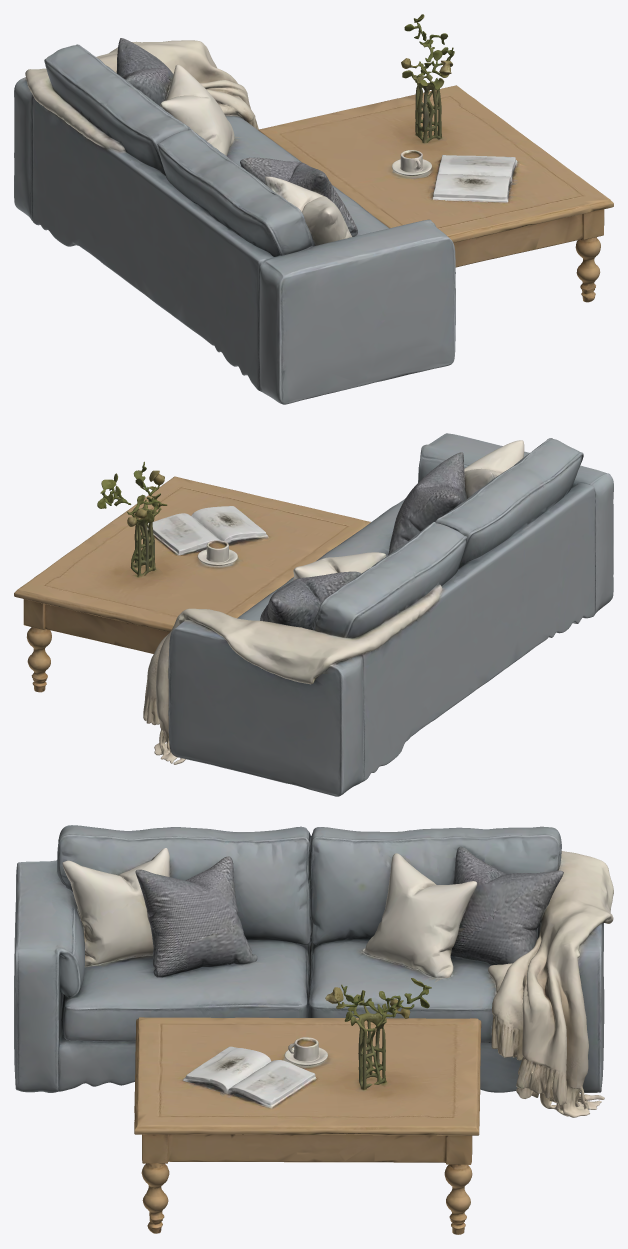
File: homedepot-com-p-jayden-creation-emma-52-in-natural-lift-top--dc1619.glb
3 renders of one model, top to bottom at view 1: azimuth 30°, elevation 25°; view 2: azimuth 150°, elevation 25°; view 3: azimuth 270°, elevation 25°, orthographic. The views are drawn at different scales.
Visible parts, largest first — view 1: tripo_node_809632c6-0faf-45bd-95af-8e26dea4952b; view 2: tripo_node_809632c6-0faf-45bd-95af-8e26dea4952b; view 3: tripo_node_809632c6-0faf-45bd-95af-8e26dea4952b.
Part boxes in pixels (x1=…): tripo_node_809632c6-0faf-45bd-95af-8e26dea4952b: x1=14, y1=14, x2=613, y2=404; tripo_node_809632c6-0faf-45bd-95af-8e26dea4952b: x1=14, y1=433, x2=613, y2=796; tripo_node_809632c6-0faf-45bd-95af-8e26dea4952b: x1=14, y1=825, x2=613, y2=1234.
Bounding box in the file's own units: 0.8249 × 0.4181 × 1.
Materials: 1 (1 with a texture image).
